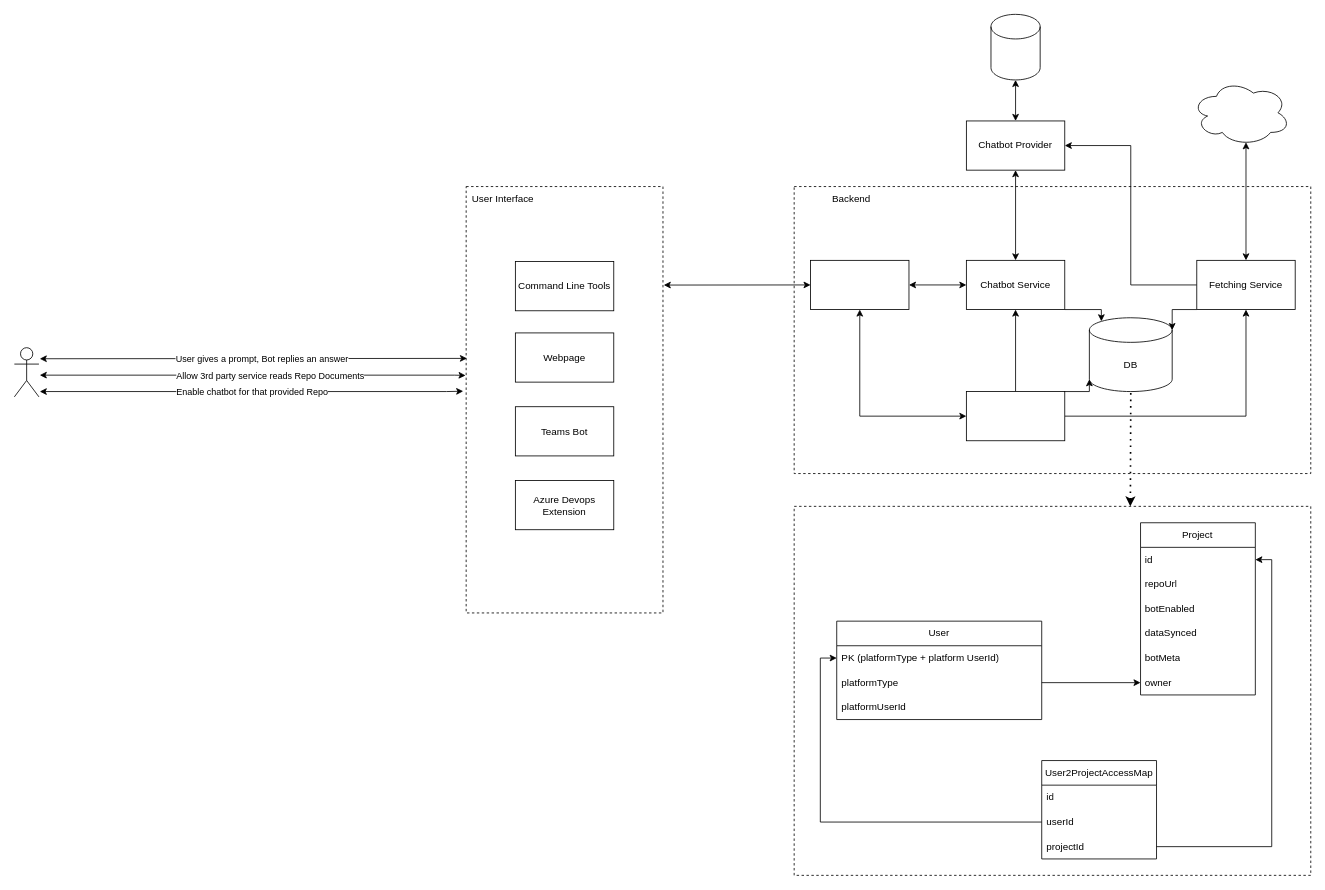
The diagram is 1325 pixels wide and 890 high, and some of its shapes have lost their labels. The shapes that lost their labels are listed below. From the top down, each one's centre as x and y in pixels, then its label:
the point at 1015,47: Vector Store
the point at 1240,112: Repo Service
the point at 859,285: APIs
the point at 26,372: Client
the point at 1015,416: Subscription Service
